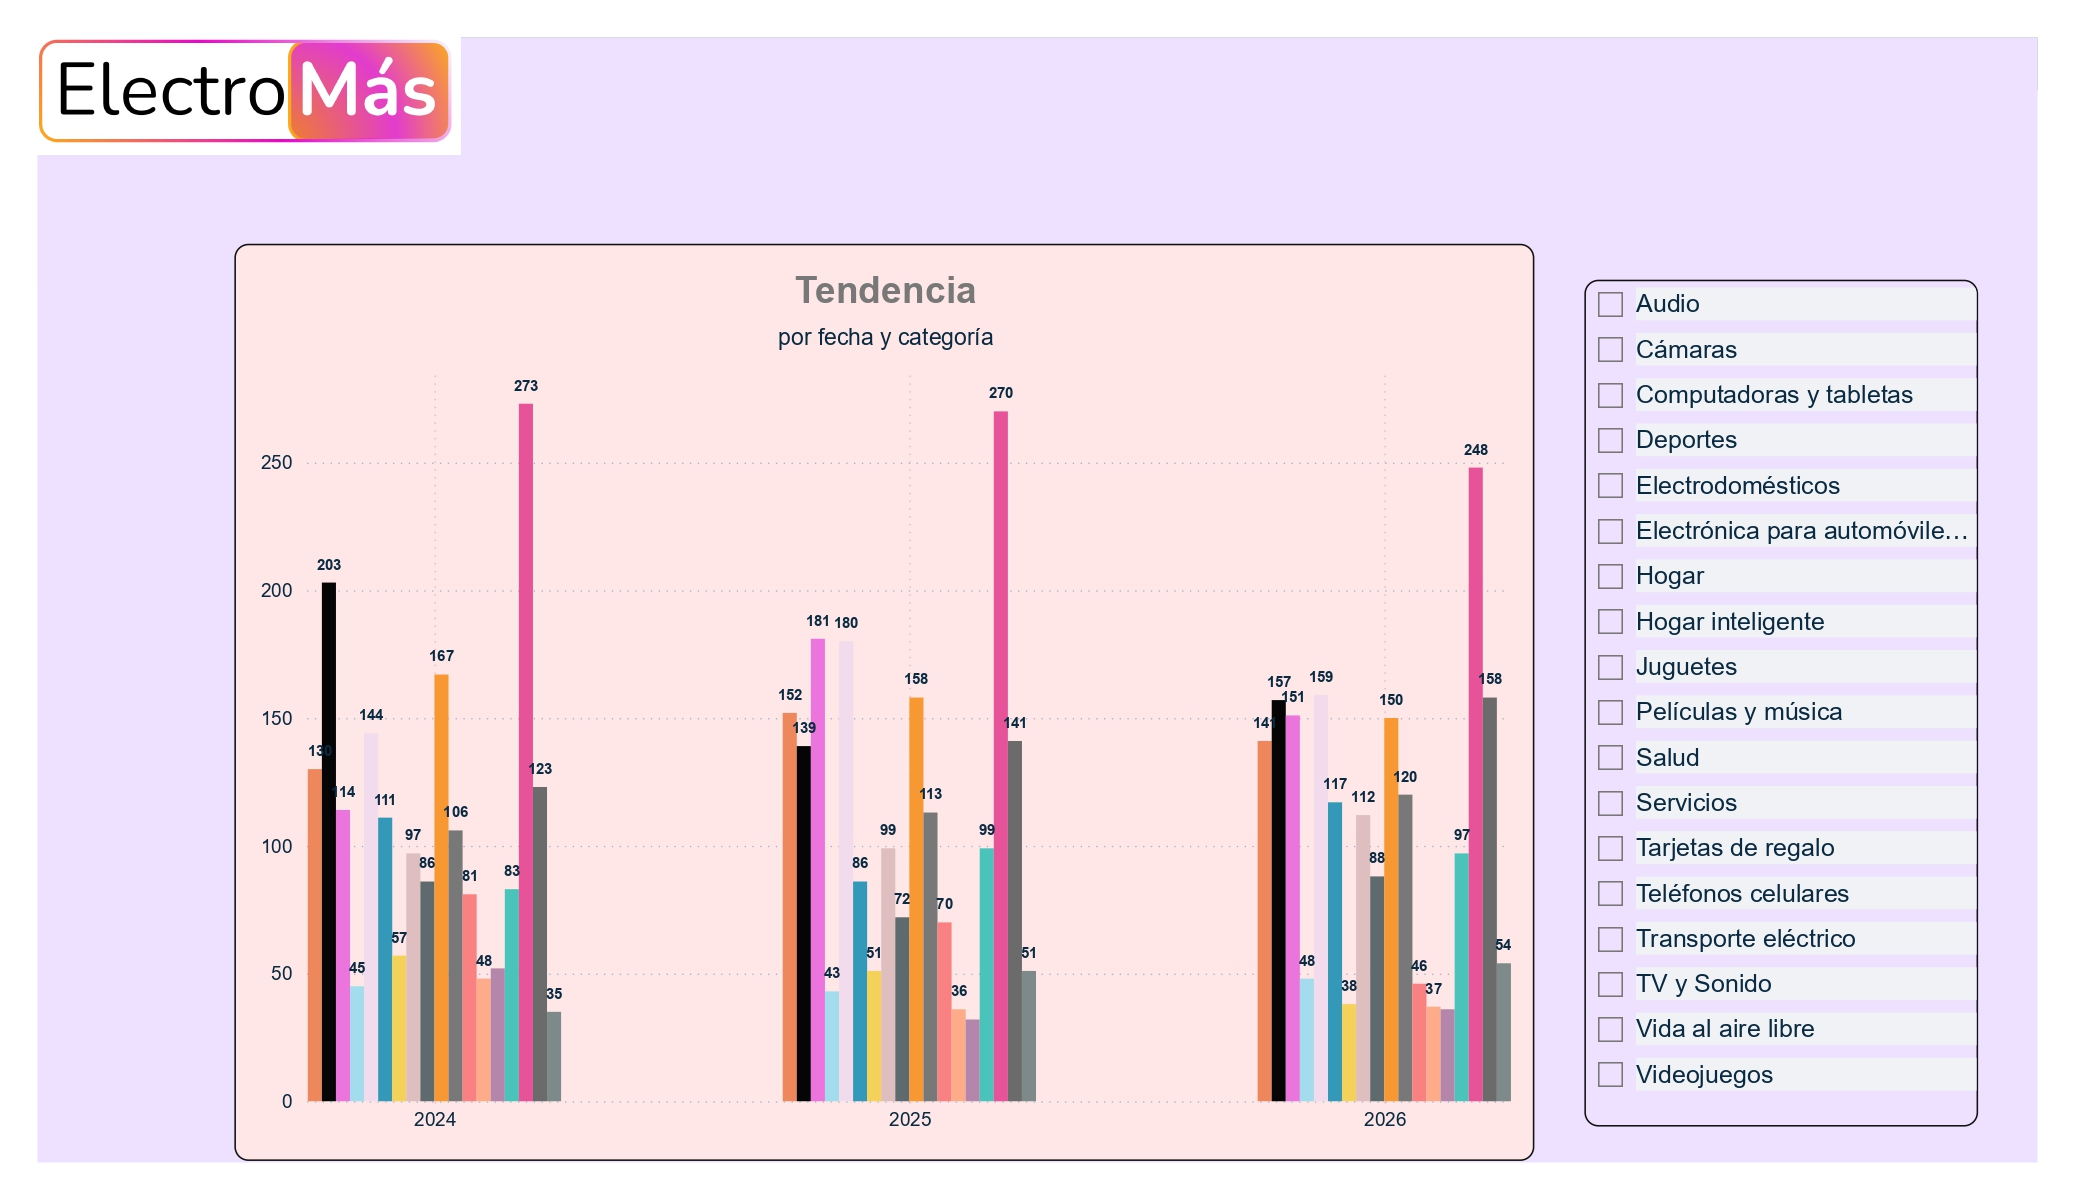

What the dashboard file says about the page in this screenshot:
{"tool":"powerbi","page":{"name":"Tendencia  por categoría","canvas":[1280,720],"ordinal":2},"visuals":[{"type":"clusteredColumnChart","title":"Tendencia ","fields":{"Category":["Transacciones.Fecha_hora.Variación.Jerarquía de fechas.Año","Transacciones.Fecha_hora.Variación.Jerarquía de fechas.Trimestre","Transacciones.Fecha_hora.Variación.Jerarquía de fechas.Mes","Transacciones.Fecha_hora.Variación.Jerarquía de fechas.Día"],"Y":["Sum(Transacciones.Cantidad)"],"Series":["Categorias.Categoría"]},"box":[11,32.9,1007.2,653.2],"z":0},{"type":"slicer","fields":{"Values":["Categorias.Categoría"]},"box":[1028,33,252,653],"z":1000}]}

Visuals, with their boxes on the page's 1280x720 design canvas (x1, y1, x2, y2). These are canvas units, not pixel positions in the 2075x1200 screenshot, which may show the page scaled, cropped or inside an application window:
"Tendencia " clusteredColumnChart: 11,33,1018,686
slicer - Categorias.Categoría: 1028,33,1280,686
